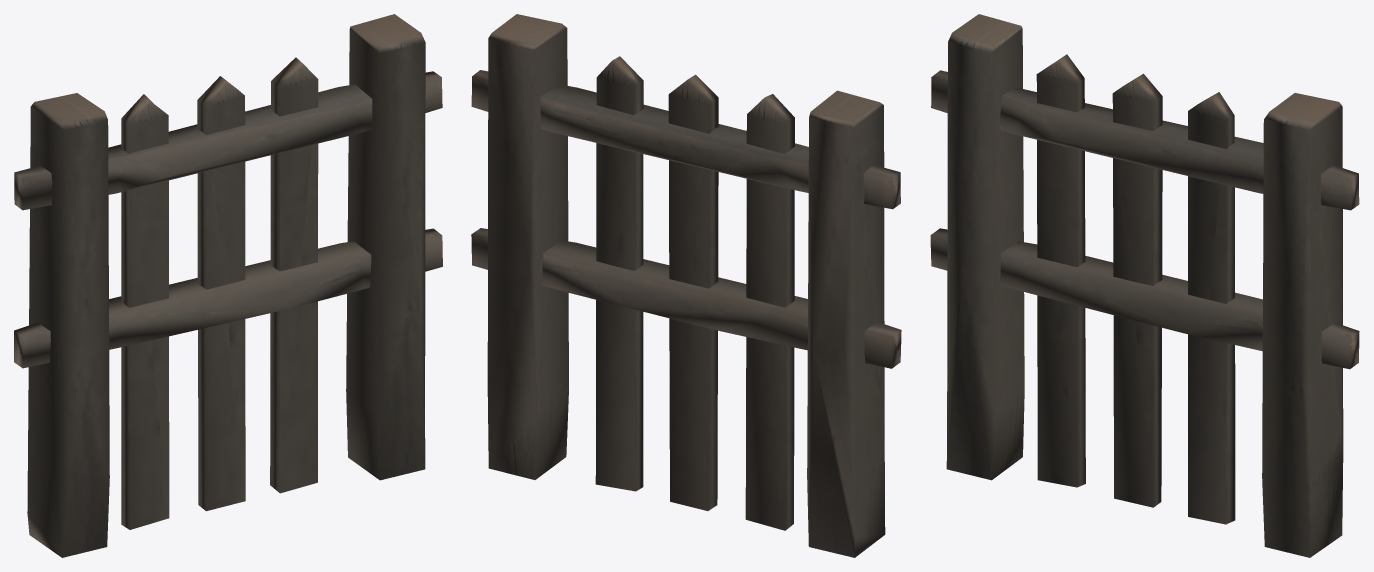
The model's file is prop-fence.glb.
The picture shows the model from 3 angles, left to right: view 1: azimuth 30°, elevation 25°; view 2: azimuth 150°, elevation 25°; view 3: azimuth 330°, elevation 25°; orthographic projection.
Bounding box in the file's own units: 0.9565 × 0.9458 × 0.1343.
1 material, 1 textured.
